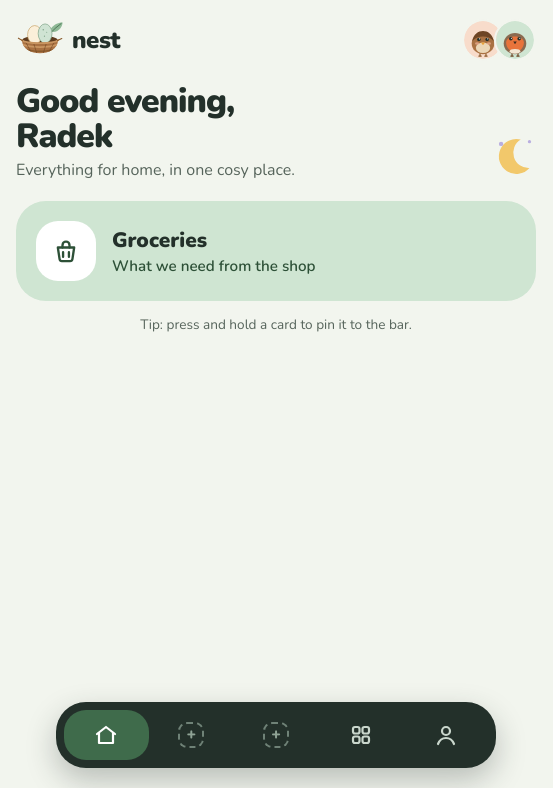
Test: home › a tap opens the module
Step 1. Click the button "Groceries What we need from the shop" → (66, 251), box [16,200,536,300]
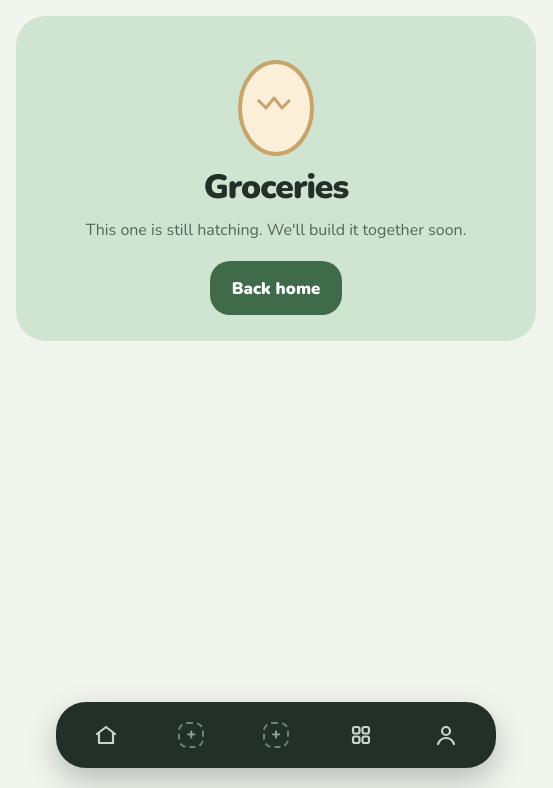
Check: the text "This one is still hatching. We'll build it together soon." is shown, box [86,219,466,241]
